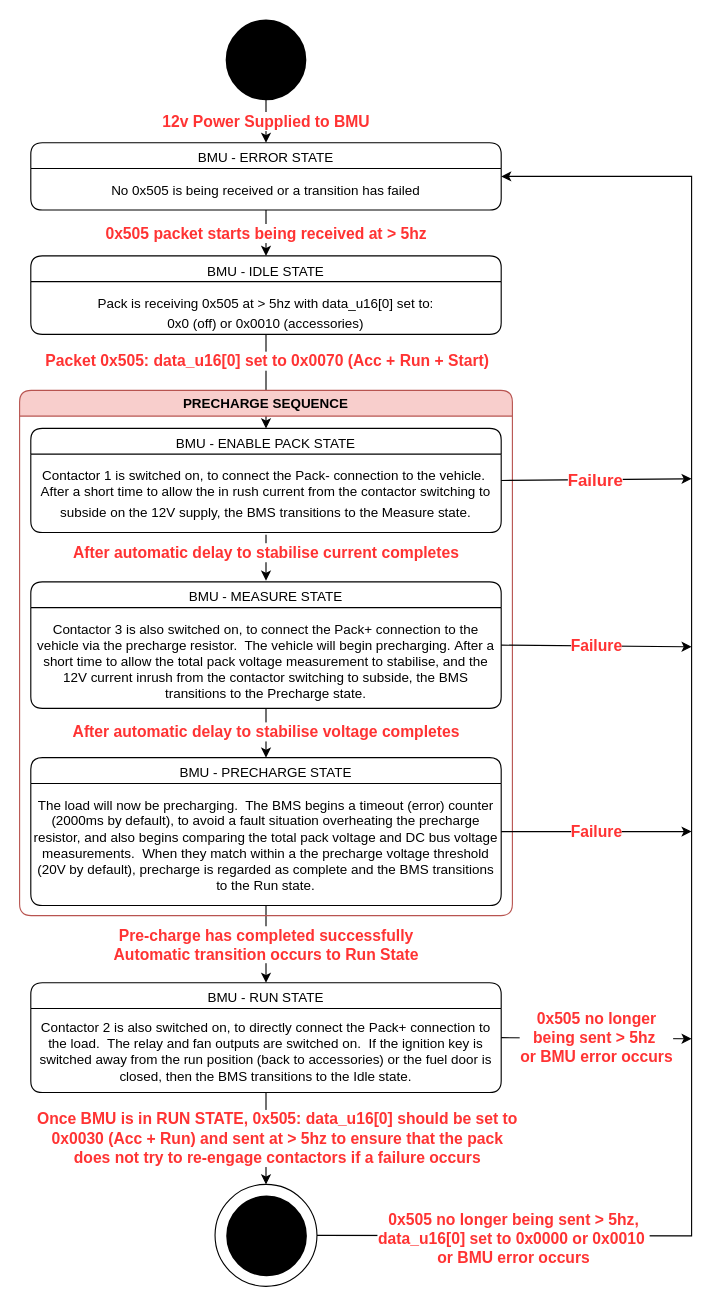
Some shapes in this 720 by 1306 pixel diagram are drawn without their labels. Here are the shapes that lost their labels. From the top down, the centre of each, then its label:
At (x=265, y=59): "OFF".
At (x=266, y=1235): "SAFE RUN STATE".
